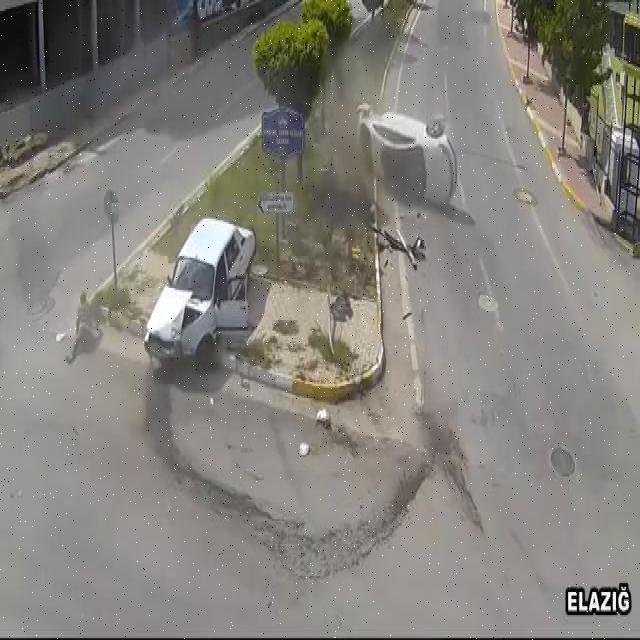severe: (353, 91, 460, 212)
